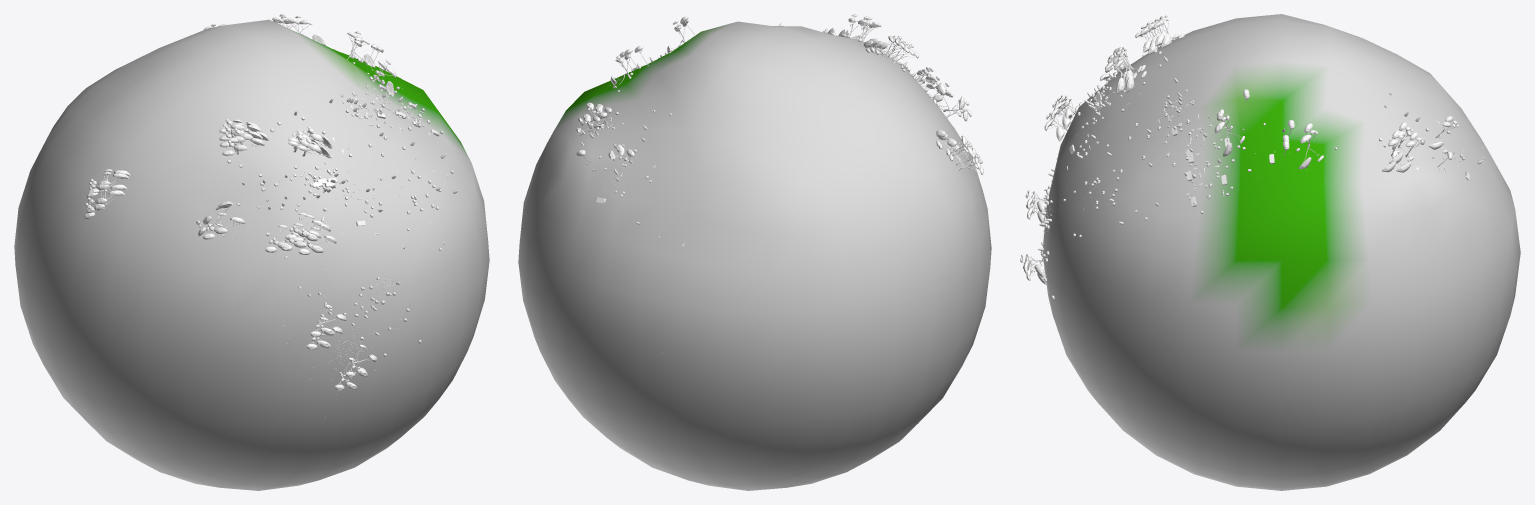
3 views of the same model, side by side, from view 1: azimuth 30°, elevation 25°; view 2: azimuth 150°, elevation 25°; view 3: azimuth 270°, elevation 25° (orthographic).
Visible parts, largest first — view 1: Sphere__2_; view 2: Sphere__2_; view 3: Sphere__2_.
Boxes of the visible parts, x1,y1,x2,y2 form: Sphere__2_: (14, 19, 489, 490); Sphere__2_: (518, 21, 991, 490); Sphere__2_: (1042, 14, 1520, 490).
Size of what is drawn, in the model's own units: 20027 by 20000 by 20933.
